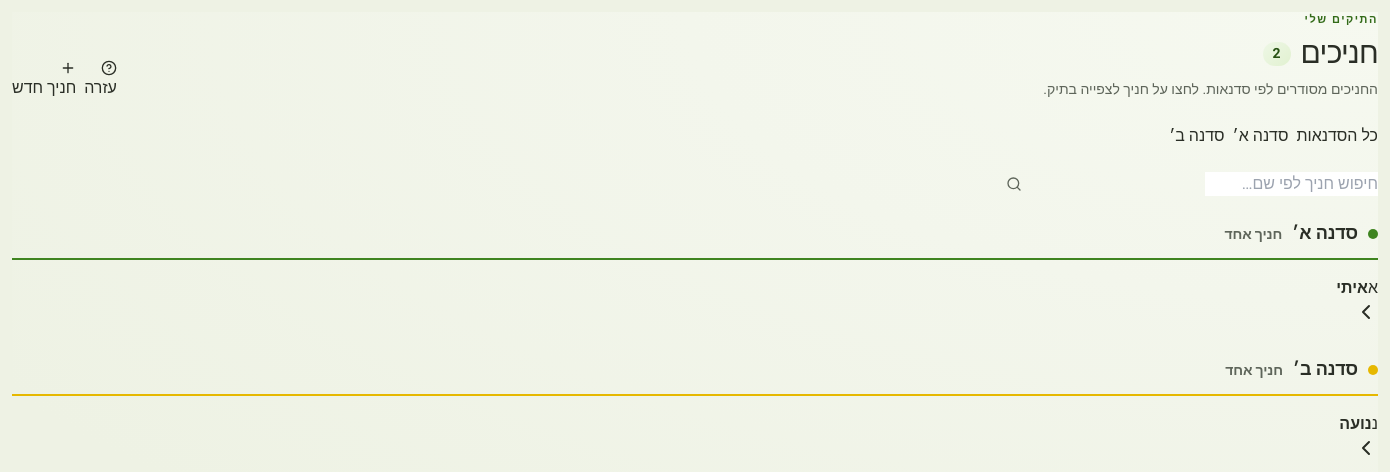
Test: StudentsPage › shows a search-specific empty message when no name matches
The image size is (1390, 472).
Check: the text "איתי" is shown, box x1=1336 y1=276 x2=1368 y2=300
Type "לא קיים" into the search field labelled "חיפוש חניך לפי שם" at (1292, 184), box x1=1205 y1=172 x2=1378 y2=196
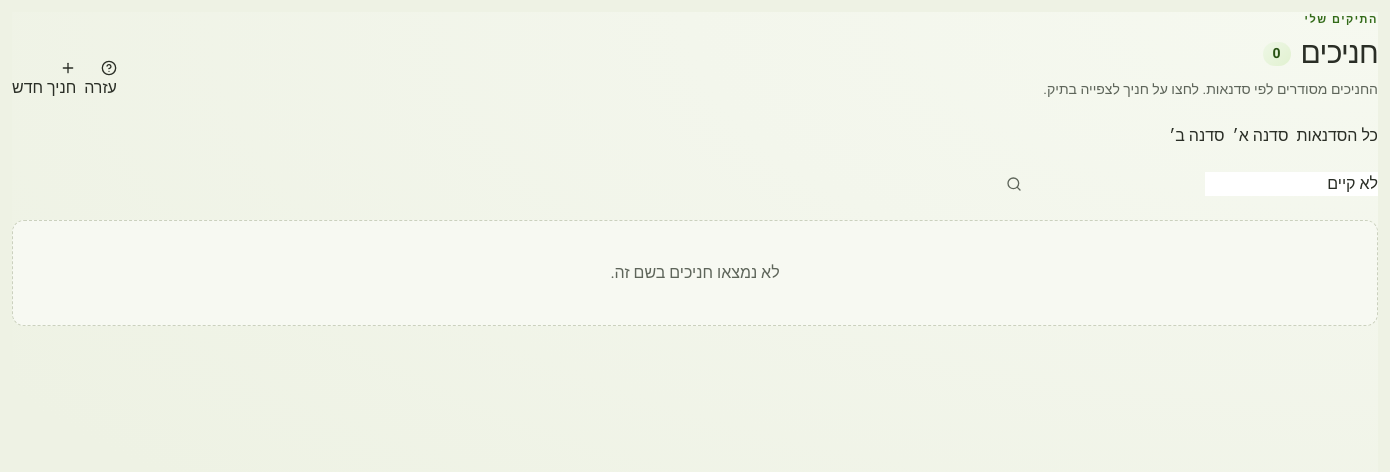
Check: the text "לא נמצאו חניכים בשם זה." is shown, box x1=12 y1=220 x2=1378 y2=326
